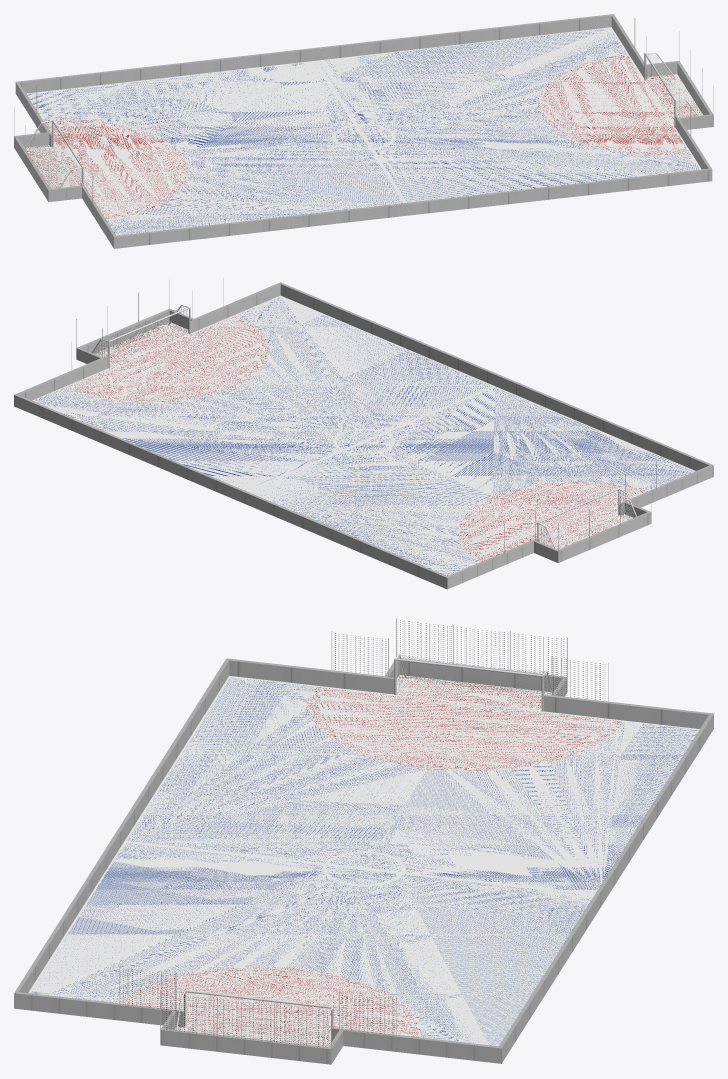
Rendered from freestyle+sccer.dae.
3 renders of one model, top to bottom at view 1: azimuth 30°, elevation 25°; view 2: azimuth 150°, elevation 25°; view 3: azimuth 270°, elevation 25°, orthographic. The views are drawn at different scales.
Parts seen in each view (by area): view 1: Componente_5 (×14), group_0; view 2: Componente_5 (×14), group_0; view 3: Componente_5 (×14), group_0 (×2).
Part boxes in pixels (left/top/right/bottom): Componente_5 (×14): left=14, top=14, right=713, bottom=248; group_0: left=26, top=122, right=78, bottom=188; Componente_5 (×14): left=14, top=282, right=713, bottom=589; group_0: left=541, top=490, right=633, bottom=547; Componente_5 (×14): left=14, top=657, right=713, bottom=1064; group_0 (×2): left=178, top=655, right=549, bottom=1045.
Size of the model in its own units: 1334 by 1007 by 87.77.
11 materials, 10 textured.
